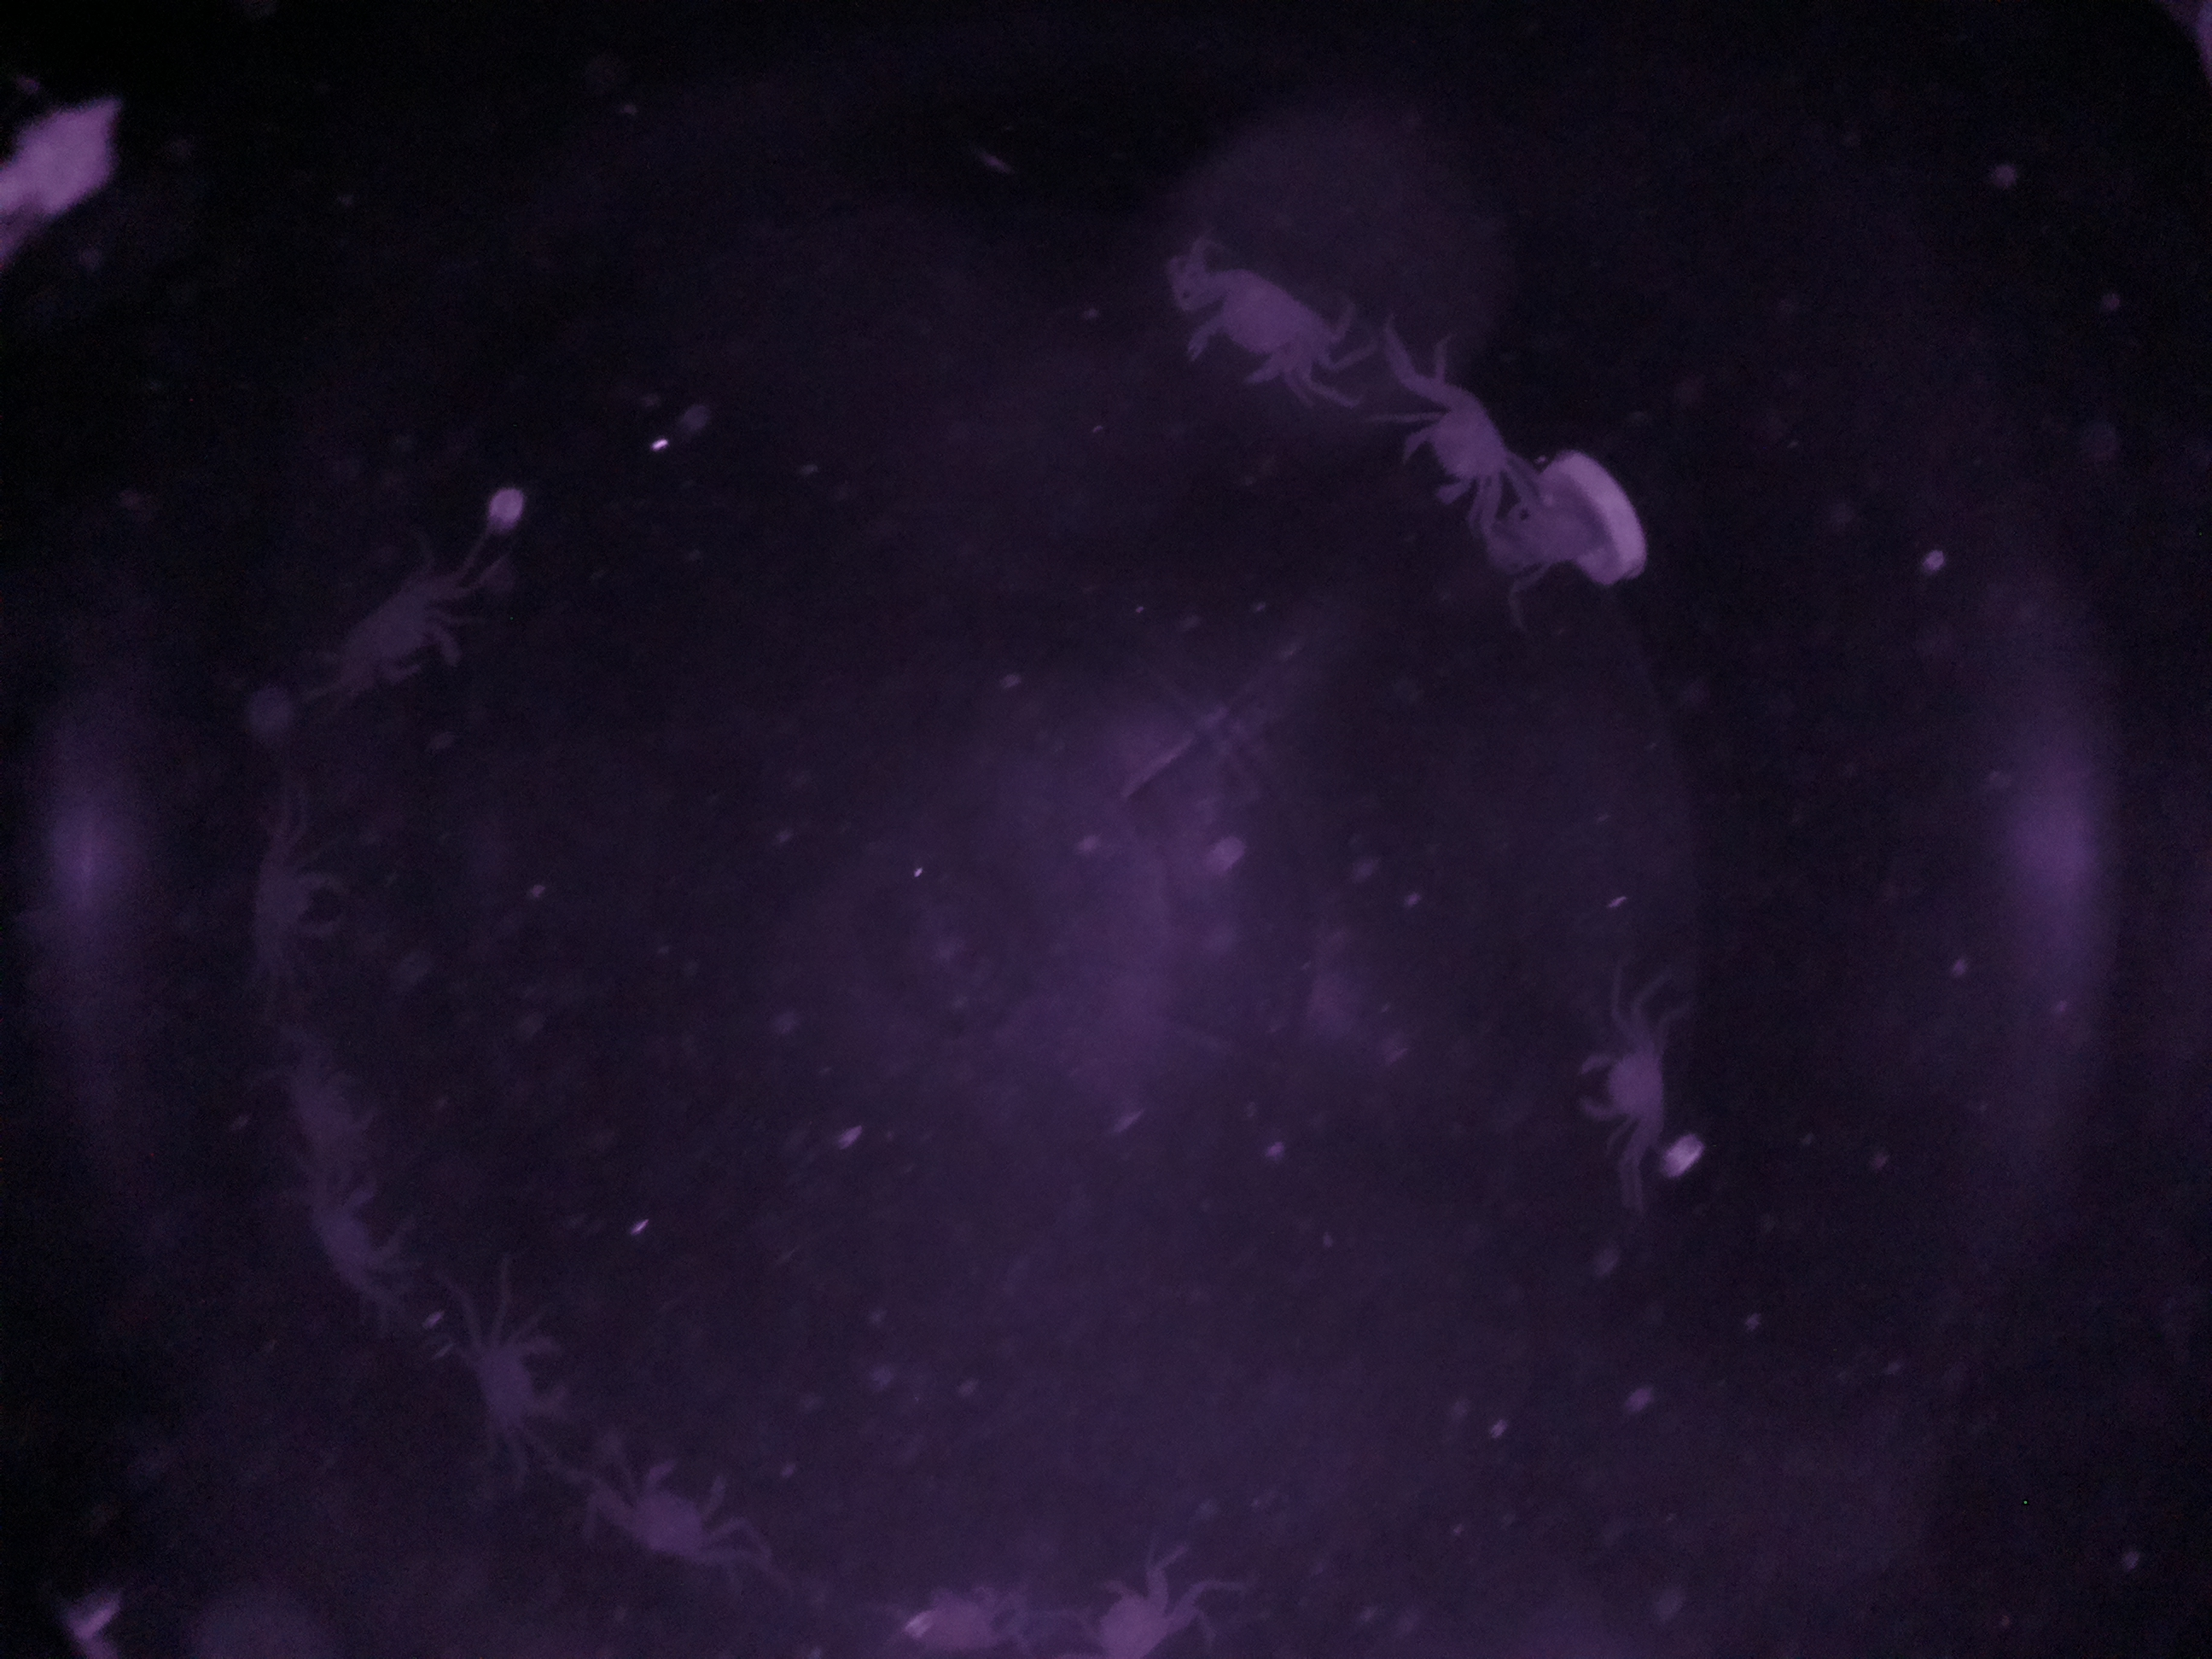Crab: (1139, 247, 1369, 418), (425, 1293, 624, 1485), (1372, 347, 1552, 530), (214, 816, 383, 995), (568, 1439, 765, 1575)
